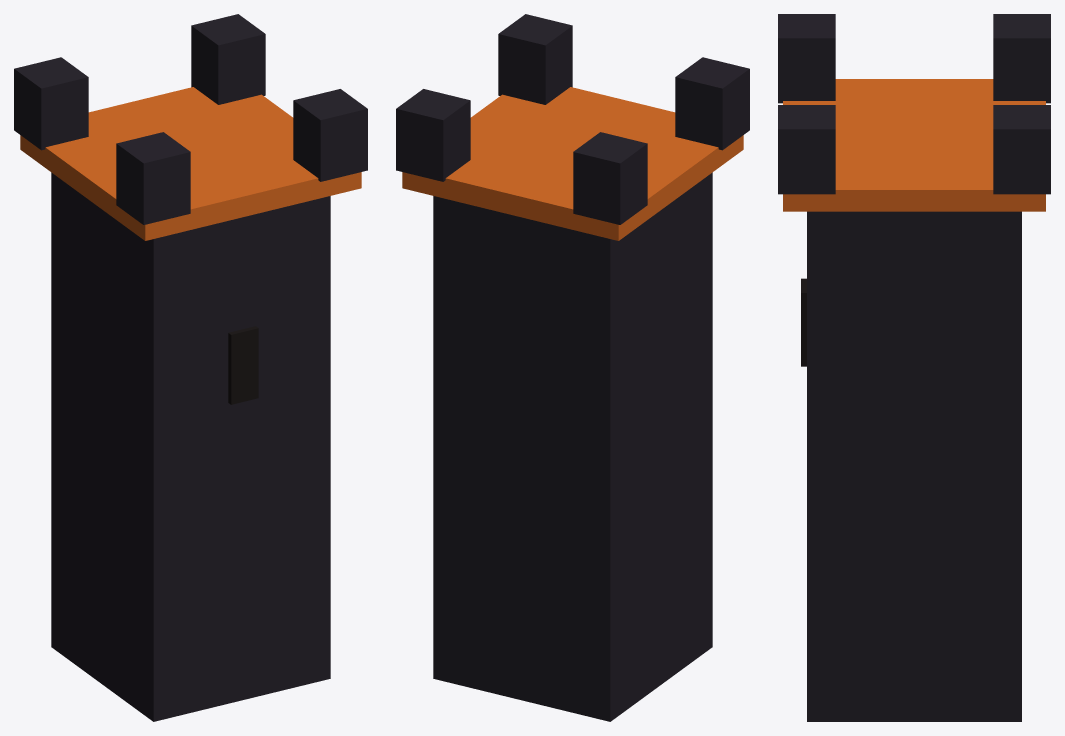
File: demon_tower.glb
3 renders of one model, left to right at view 1: azimuth 30°, elevation 25°; view 2: azimuth 150°, elevation 25°; view 3: azimuth 270°, elevation 25°, orthographic. The views are drawn at different scales.
Parts seen in each view (by area): view 1: demon_tower; view 2: demon_tower; view 3: demon_tower.
Boxes of the visible parts, left/top/right/bottom form: demon_tower: left=14, top=14, right=367, bottom=721; demon_tower: left=396, top=14, right=749, bottom=721; demon_tower: left=778, top=14, right=1050, bottom=721.
Bounding box in the file's own units: 1.14 × 2.79 × 1.14.
